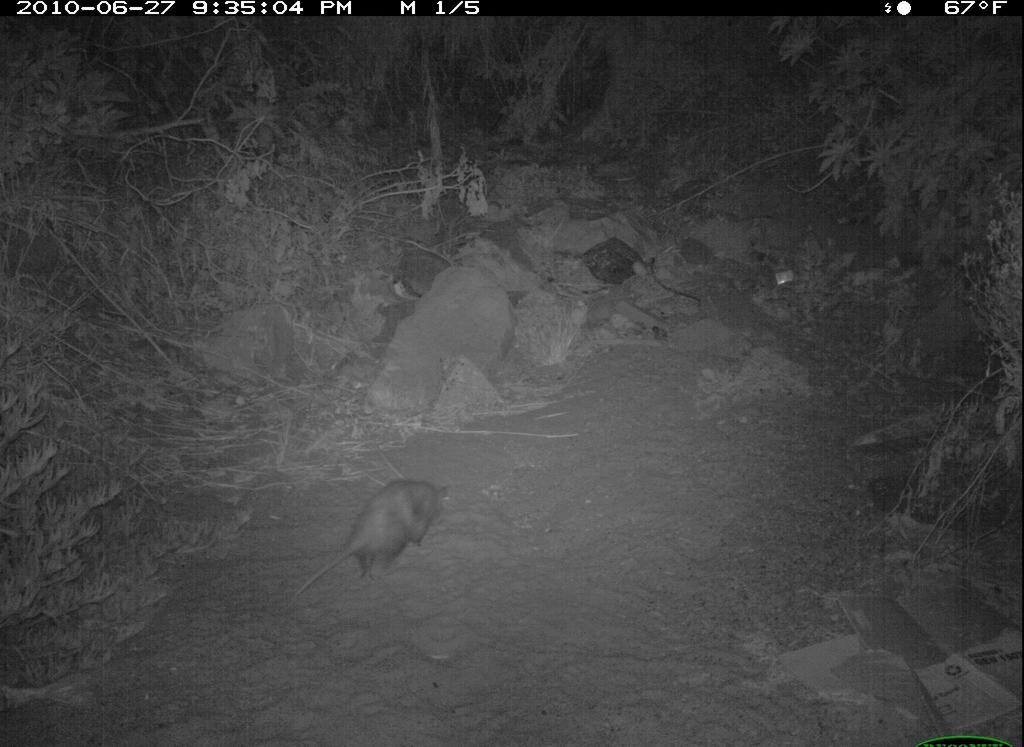opossum: (291, 465, 461, 611)
